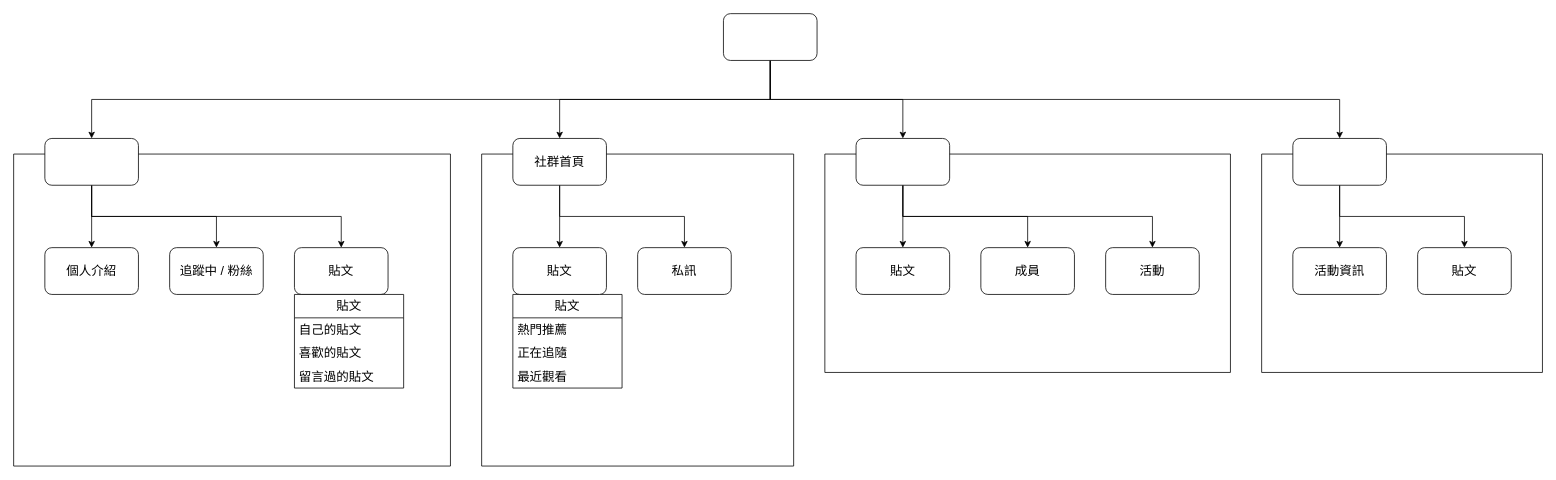
Image size: 1556x480. Some labels were removed from this diagram. Here are the shapes that lost their labels. From the top down, the centre of each, then its label:
At pixel 770 36: "社群功能".
At pixel 91 161: "個人頁面".
At pixel 902 161: "社團".
At pixel 1339 161: "公開活動".
